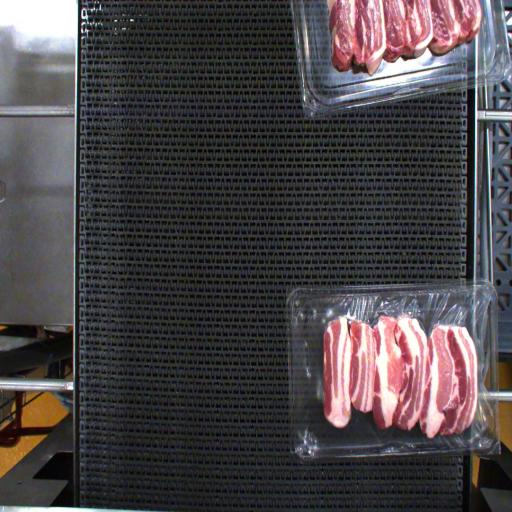unsealed: (293, 284, 490, 442)
